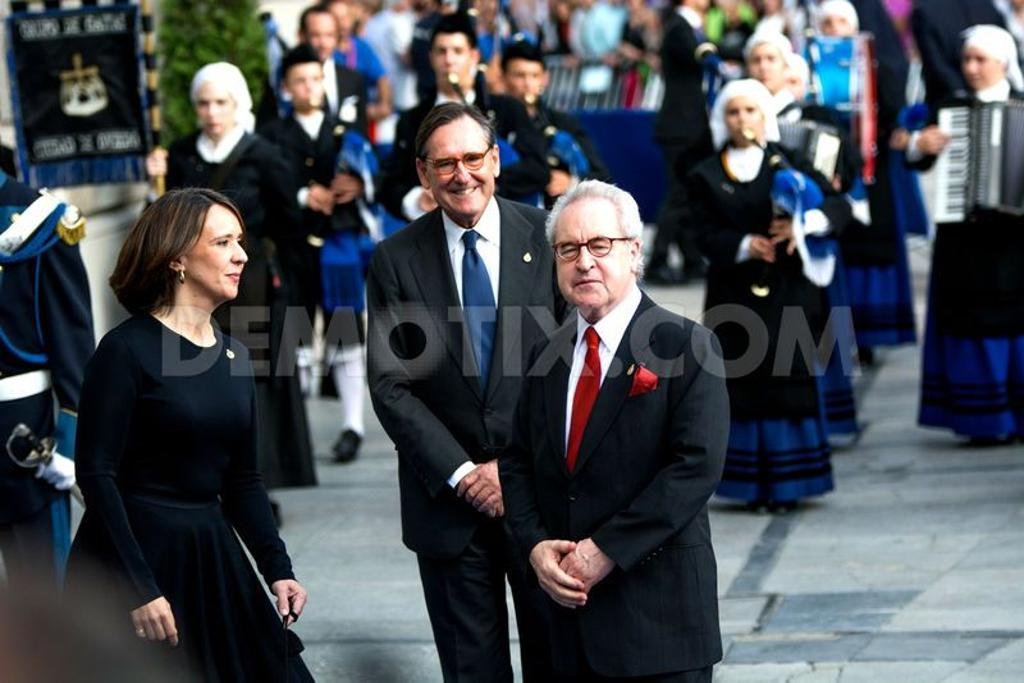face: (554, 197, 630, 308), (429, 115, 493, 214), (185, 205, 248, 301), (432, 32, 469, 90), (193, 88, 235, 137), (723, 96, 763, 142), (507, 57, 542, 103), (288, 61, 323, 107), (962, 46, 997, 90), (748, 42, 782, 86), (308, 13, 338, 58), (773, 58, 803, 101), (822, 14, 852, 43), (327, 4, 350, 35)
